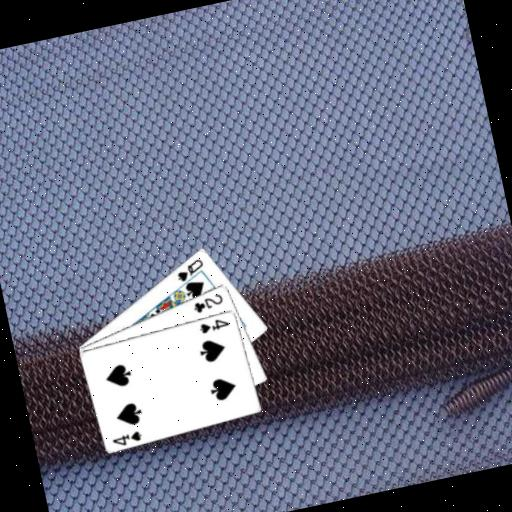2C: (189, 289, 226, 315)
4S: (195, 313, 231, 335), (108, 427, 144, 449)
QS: (171, 255, 208, 285)
